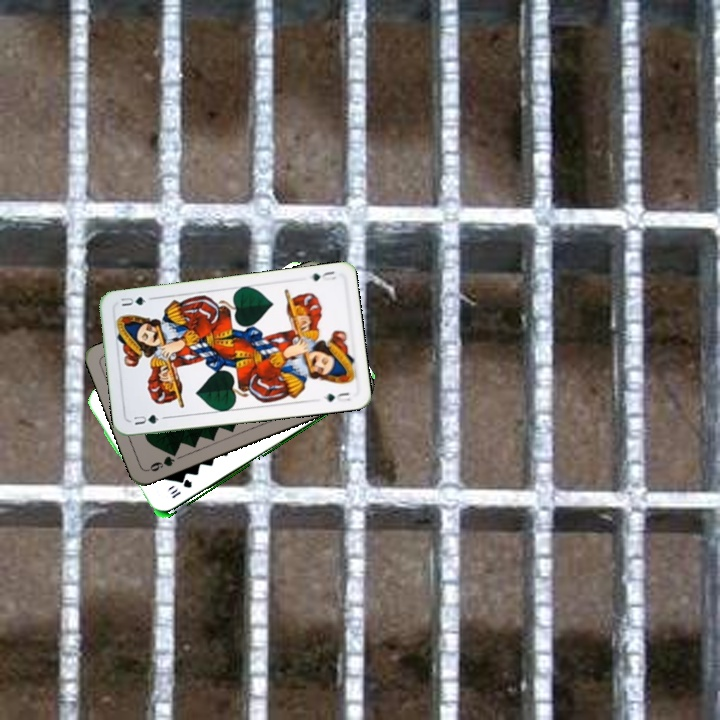G10: (167, 476, 195, 501)
G9: (144, 447, 180, 474)
GU: (129, 410, 168, 428), (305, 267, 339, 284)
